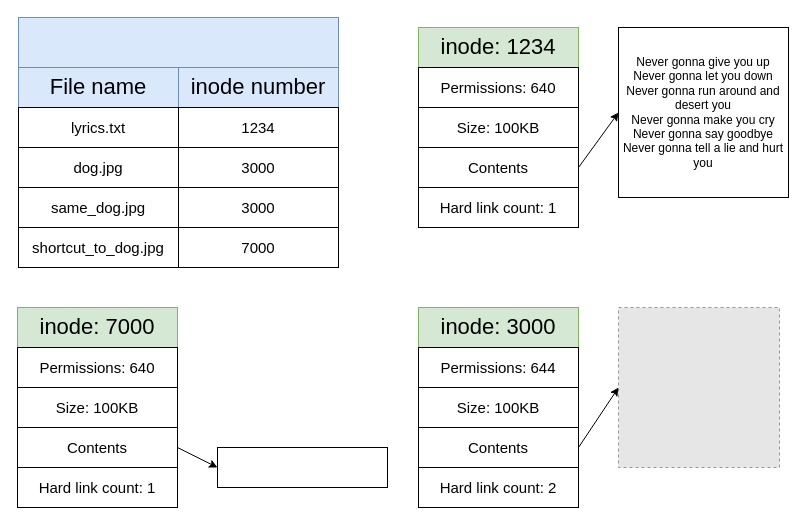
The diagram is 806 pixels wide and 525 high, and some of its shapes have lost their labels. Grey dashed boxes stand in for pictures. The shapes that lost their labels are listed below. From the top down, each one's centre as x and y in pixels, then its label:
At point (178, 42): "Directory: /home/astleyrick".
At point (302, 467): "/home/astleyrick/dog.jpg".
